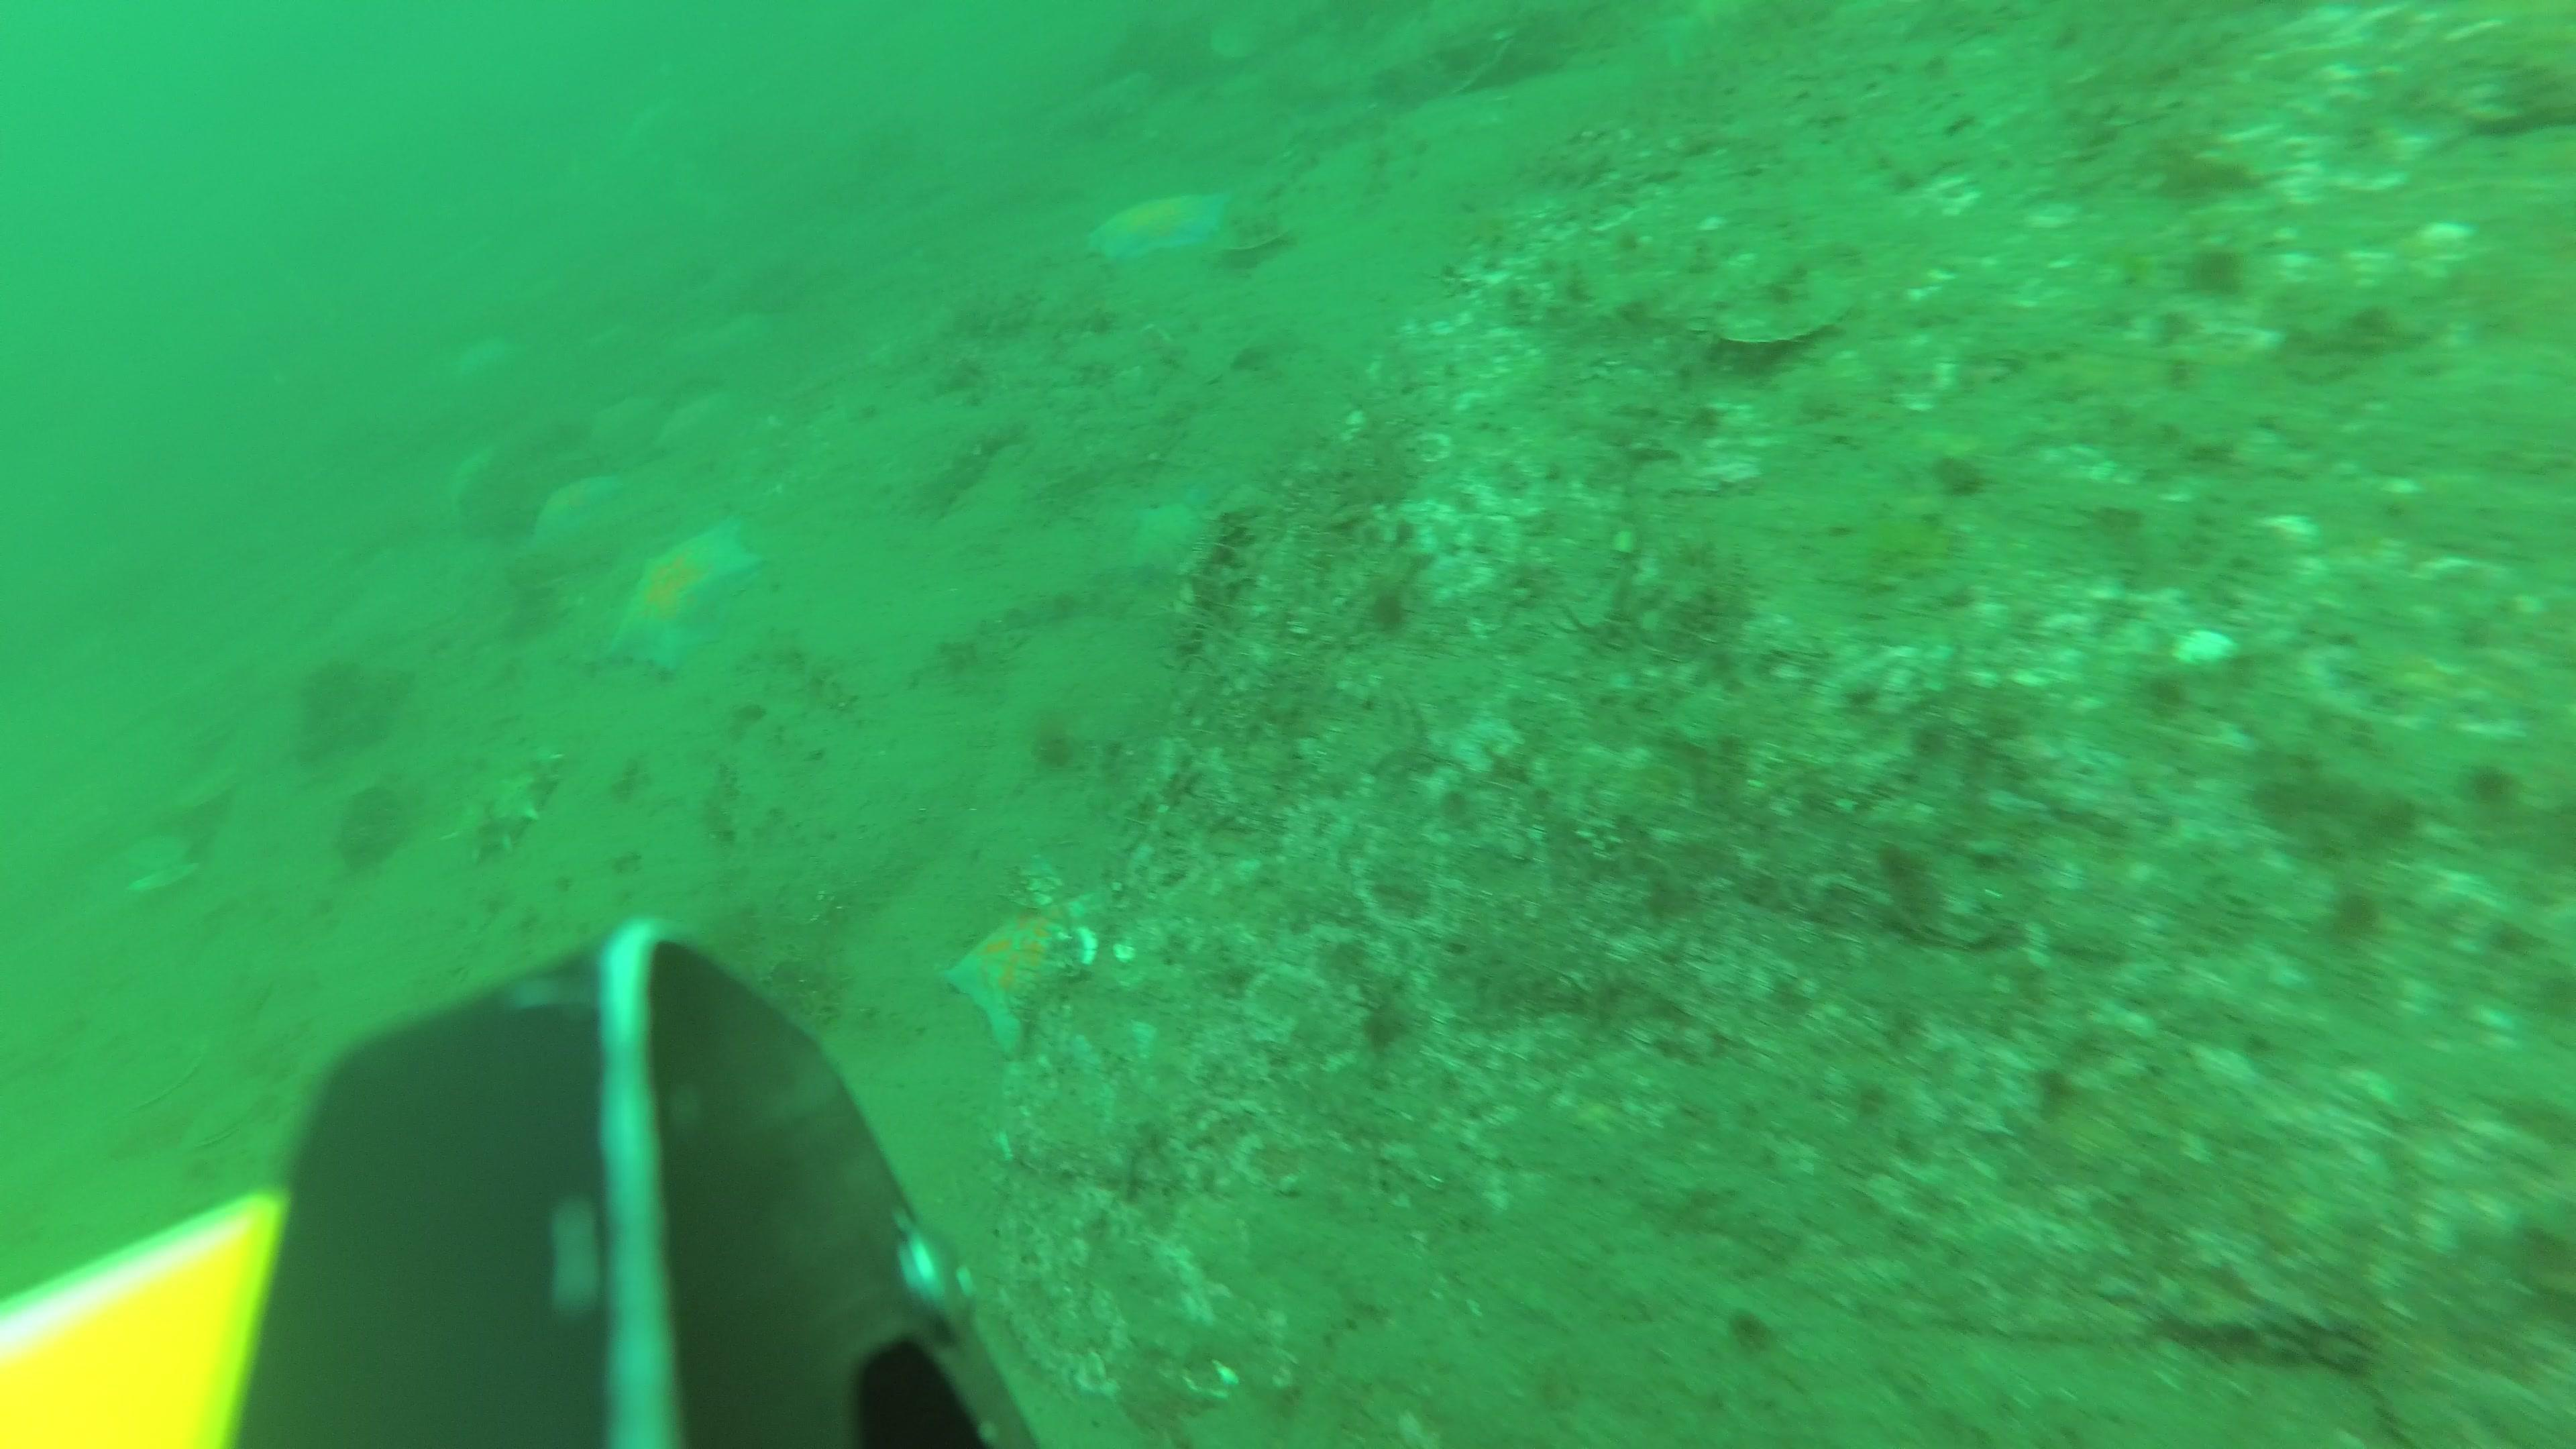holothurian: (449, 750, 564, 863)
scallop: (126, 837, 196, 897), (177, 759, 239, 816)
starfish: (950, 890, 1123, 1063), (607, 518, 759, 685), (1083, 186, 1240, 272), (1136, 497, 1237, 586), (536, 478, 630, 563), (663, 386, 745, 464)
